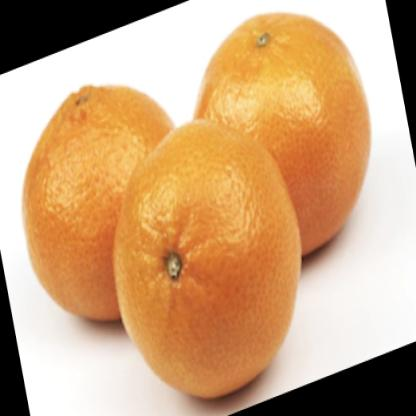fresh: (25, 14, 376, 386)
